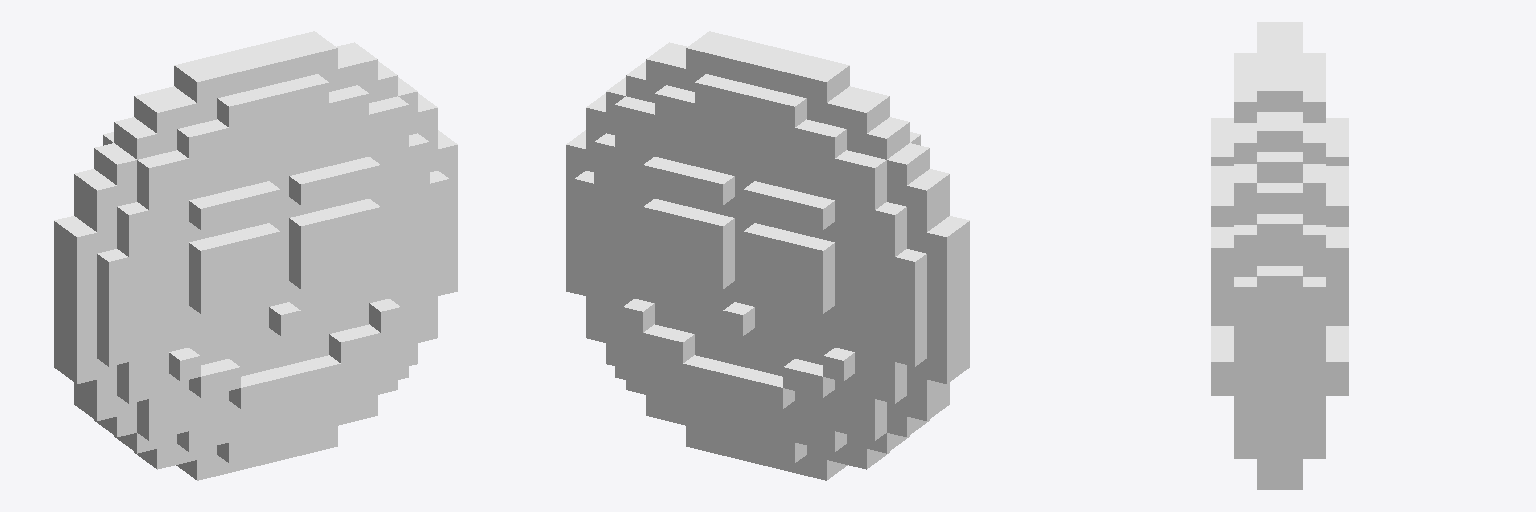
File: emoji_smile.obj
The picture shows the model from 3 angles: view 1: azimuth 30°, elevation 25°; view 2: azimuth 150°, elevation 25°; view 3: azimuth 270°, elevation 25°; orthographic projection.
Bounding box in the file's own units: 19 × 19 × 6.